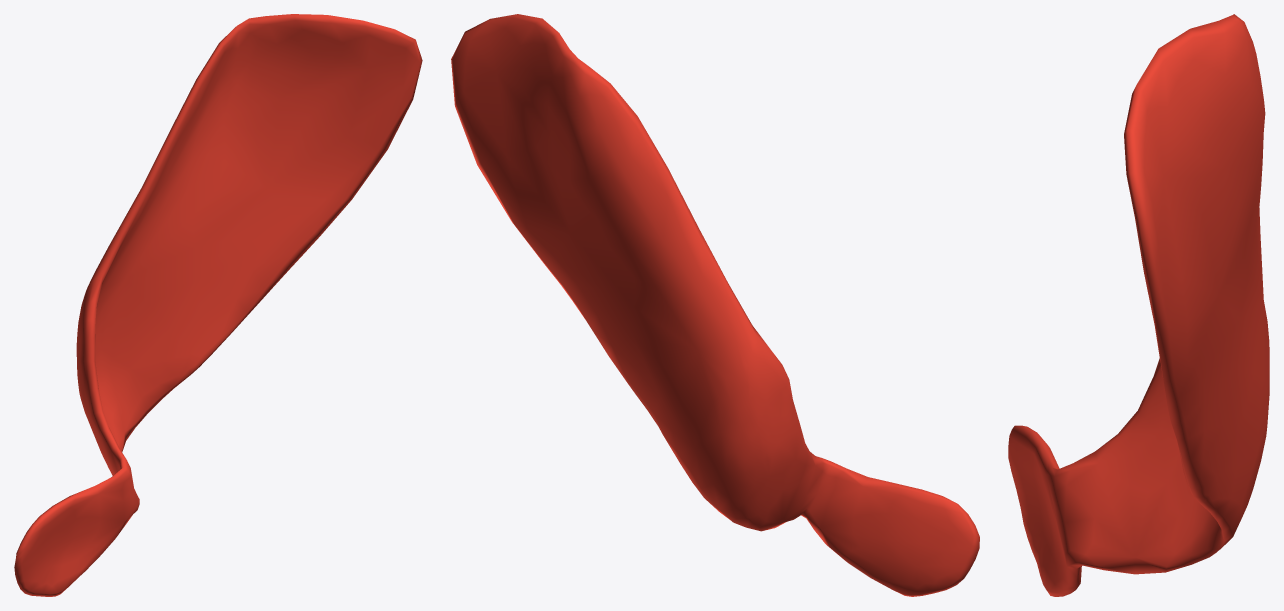
Rendered from Sternohyoid_muscle-Sternoclavicular_insertion.l_Generated_Mesh_.glb.
3 renders of one model, left to right at view 1: azimuth 30°, elevation 25°; view 2: azimuth 150°, elevation 25°; view 3: azimuth 270°, elevation 25°, orthographic. The views are drawn at different scales.
Visible parts, largest first — view 1: Sternohyoid_muscle-Sternoclavicular_insertion.l_Generated_Me; view 2: Sternohyoid_muscle-Sternoclavicular_insertion.l_Generated_Me; view 3: Sternohyoid_muscle-Sternoclavicular_insertion.l_Generated_Me.
Part boxes in pixels (bbox=[...]): Sternohyoid_muscle-Sternoclavicular_insertion.l_Generated_Me: bbox=[14, 14, 422, 596]; Sternohyoid_muscle-Sternoclavicular_insertion.l_Generated_Me: bbox=[451, 14, 979, 596]; Sternohyoid_muscle-Sternoclavicular_insertion.l_Generated_Me: bbox=[1008, 14, 1269, 596].
Size of the model in its own units: 0.0227 by 0.0234 by 0.00706.
